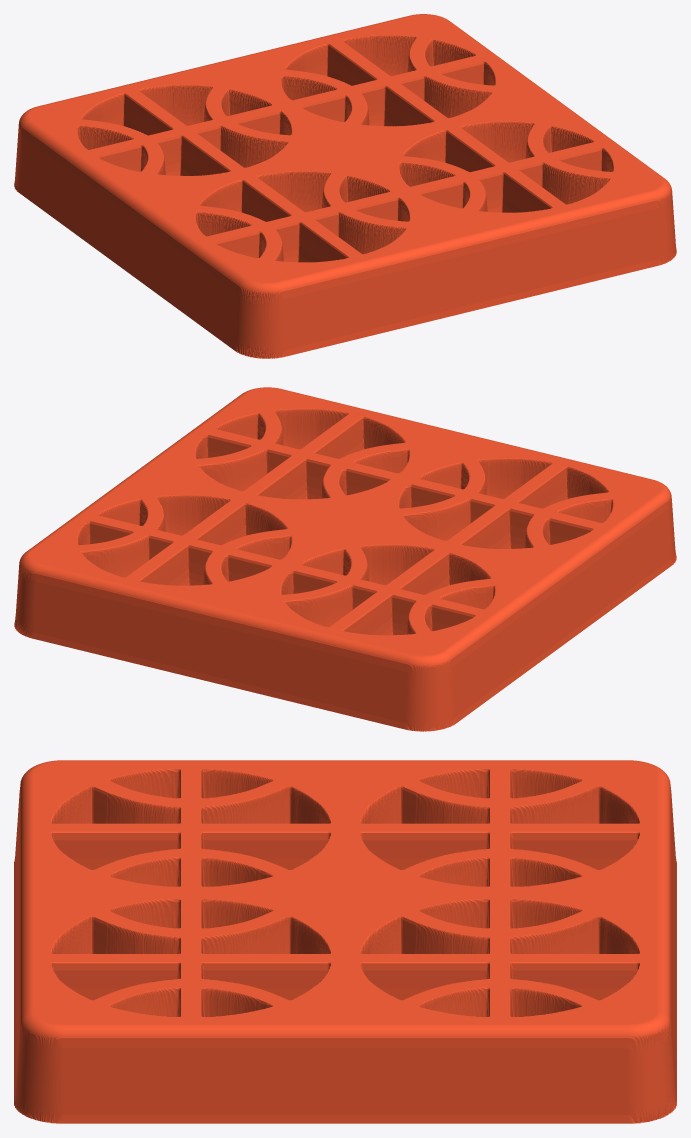
Rendered from mold.glb.
3 views of the same model, one above another, from view 1: azimuth 30°, elevation 25°; view 2: azimuth 150°, elevation 25°; view 3: azimuth 270°, elevation 25° (orthographic). The views are drawn at different scales.
Parts seen in each view (by area): view 1: geometry_0; view 2: geometry_0; view 3: geometry_0.
Boxes of the visible parts, box(x1,y1,x2,y2) form: geometry_0: box(14, 14, 676, 358); geometry_0: box(14, 387, 676, 731); geometry_0: box(14, 760, 676, 1123).
Bounding box in the file's own units: 0.1214 × 0.0185 × 0.1218.
